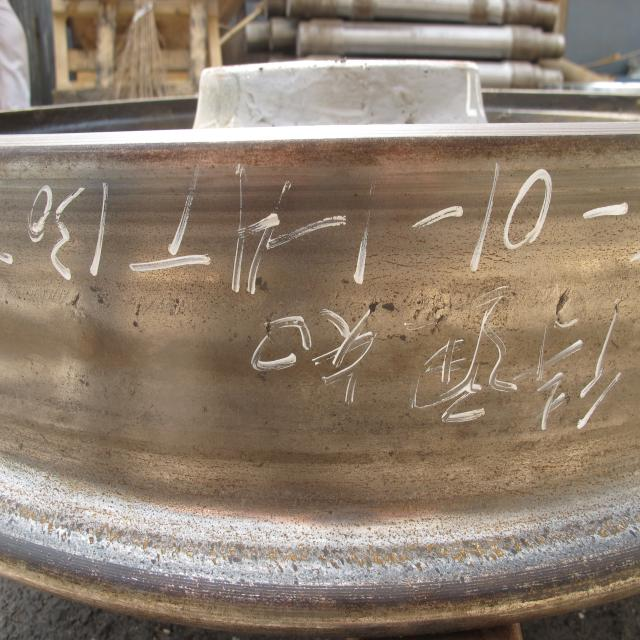Contact_Fatigue_Cracks: (371, 293, 449, 332), (6, 285, 69, 309), (182, 294, 208, 317), (555, 291, 569, 318), (265, 309, 275, 343), (148, 300, 168, 316), (82, 307, 89, 321)
Peeling: (90, 283, 109, 307), (134, 302, 143, 329), (170, 295, 179, 318), (71, 293, 80, 309), (258, 278, 269, 291)
